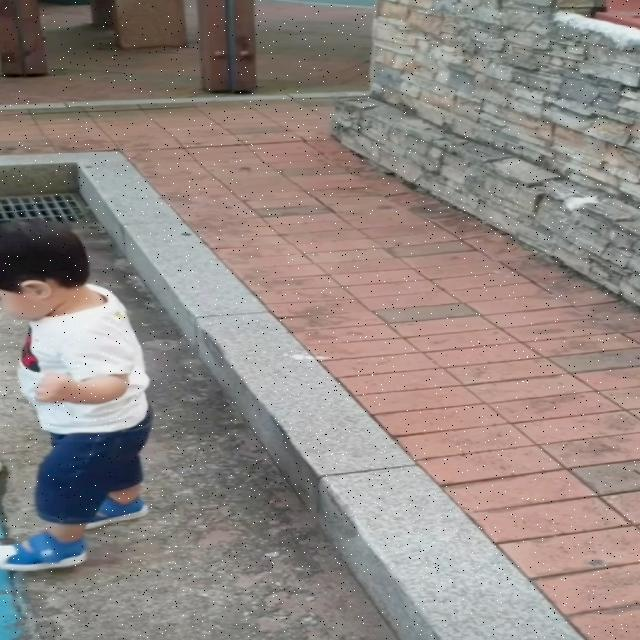child: (0, 215, 154, 570)
